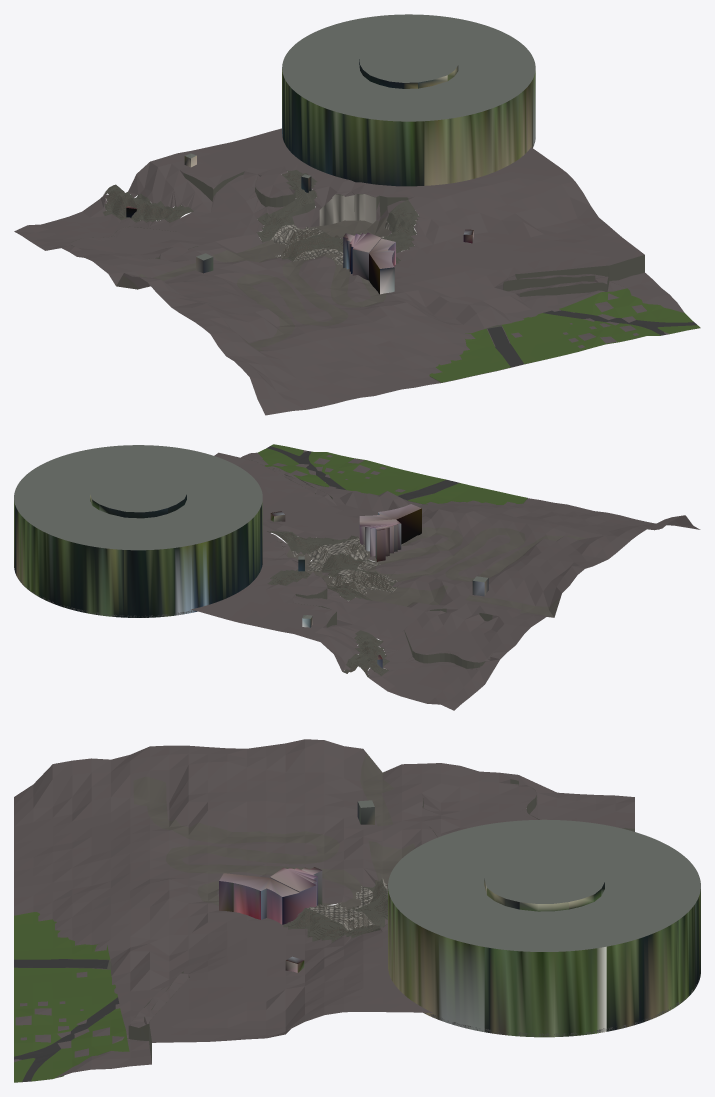
3 renders of one model, top to bottom at view 1: azimuth 30°, elevation 25°; view 2: azimuth 150°, elevation 25°; view 3: azimuth 270°, elevation 25°, orthographic. The views are drawn at different scales.
Parts seen in each view (by area): view 1: c_m06_m16, append:c_m06_m16; view 2: c_m06_m16, append:c_m06_m16; view 3: c_m06_m16, append:c_m06_m16.
Part boxes in pixels (<box>): c_m06_m16: <box>14,14,700,415</box>; append:c_m06_m16: <box>115,194,389,350</box>; c_m06_m16: <box>14,444,700,710</box>; append:c_m06_m16: <box>282,527,586,617</box>; c_m06_m16: <box>14,739,700,1082</box>; append:c_m06_m16: <box>133,753,415,930</box>.
Size of the model in its own units: 138 by 35.86 by 142.
